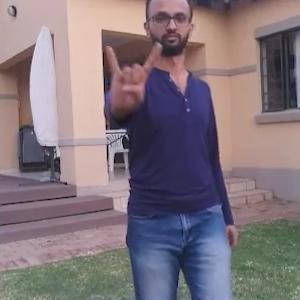takeoff-hand: (92, 39, 168, 117)
